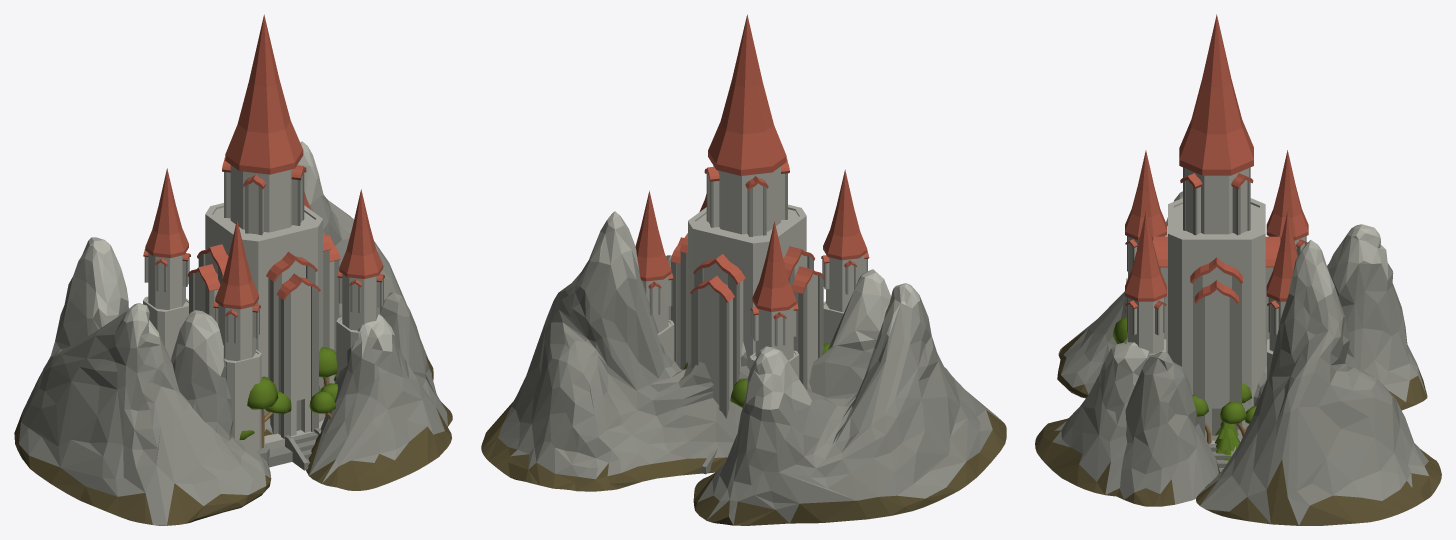
Rendered from fantasy.glb.
The picture shows the model from 3 angles, left to right: view 1: azimuth 30°, elevation 25°; view 2: azimuth 150°, elevation 25°; view 3: azimuth 270°, elevation 25°; orthographic projection.
Parts seen in each view (by area): view 1: Mountain_Group_1, Temple_SecondAge_Level3, Mountain_Group_2, Resource_Tree_Group; view 2: Mountain_Group_1, Temple_SecondAge_Level3, Mountain_Group_2; view 3: Mountain_Group_1, Temple_SecondAge_Level3, Mountain_Group_2, Resource_Tree_Group, Resource_PineTree_Group.
Part boxes in pixels (x1,y1,x2,y2): Mountain_Group_1: (14,141,451,525); Temple_SecondAge_Level3: (143,14,384,470); Mountain_Group_2: (171,292,452,440); Resource_Tree_Group: (239,347,337,448); Mountain_Group_1: (481,211,1006,525); Temple_SecondAge_Level3: (635,14,869,474); Mountain_Group_2: (666,255,890,398); Mountain_Group_1: (1035,191,1441,525); Temple_SecondAge_Level3: (1125,14,1308,472); Mountain_Group_2: (1116,226,1253,506); Resource_Tree_Group: (1112,316,1256,443); Resource_PineTree_Group: (1215,421,1240,460).
Size of the model in its own units: 4.59 by 4.41 by 3.84.
